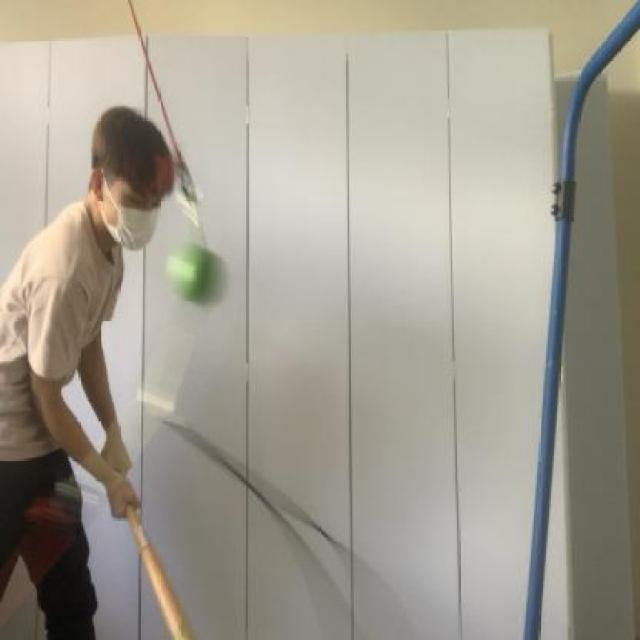baseball: (165, 240, 232, 314)
